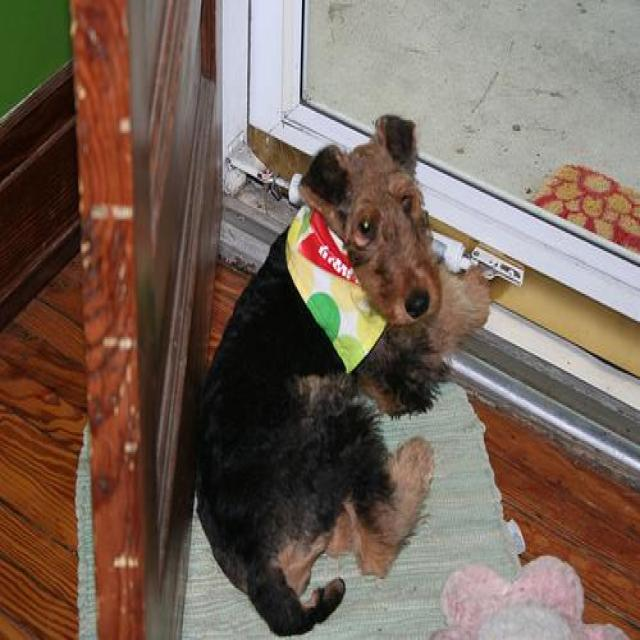airedale: (188, 109, 488, 635)
